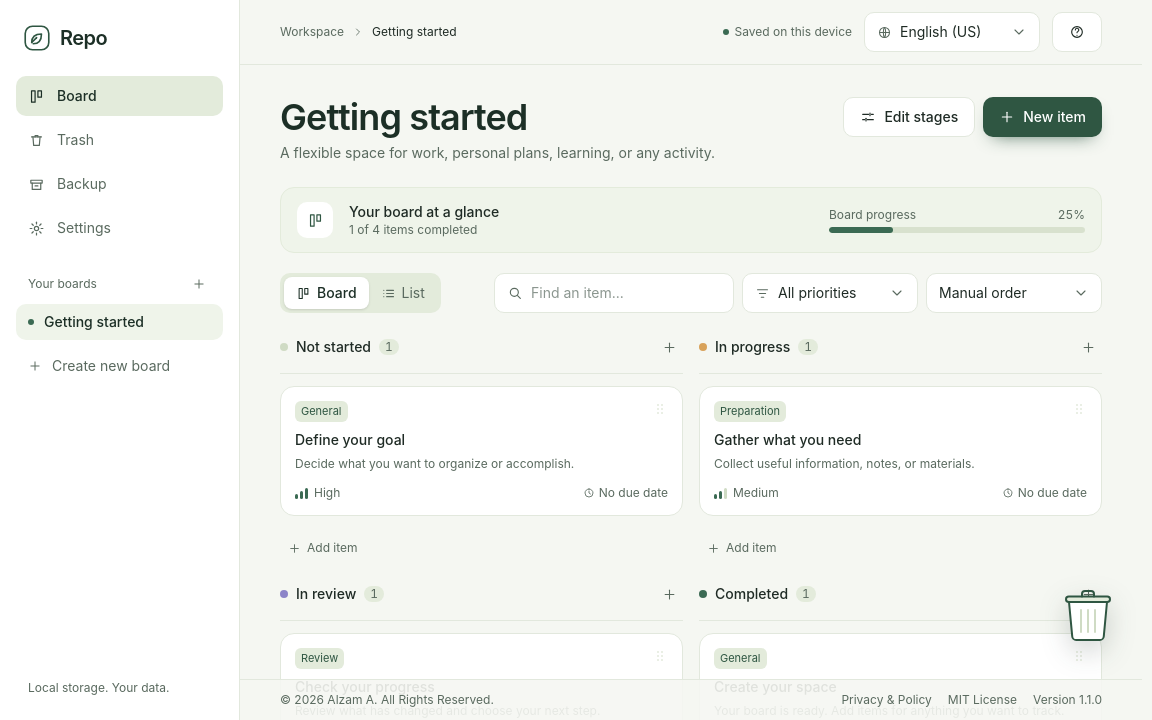
Test case: backup dialog › requires matching passphrases before starting an encrypted backup
The image size is (1152, 720).
Expected: the heading "Getting started" is shown, [280,95,527,139]
Click the button "Backup" at point(120, 184), box [16,164,223,204]
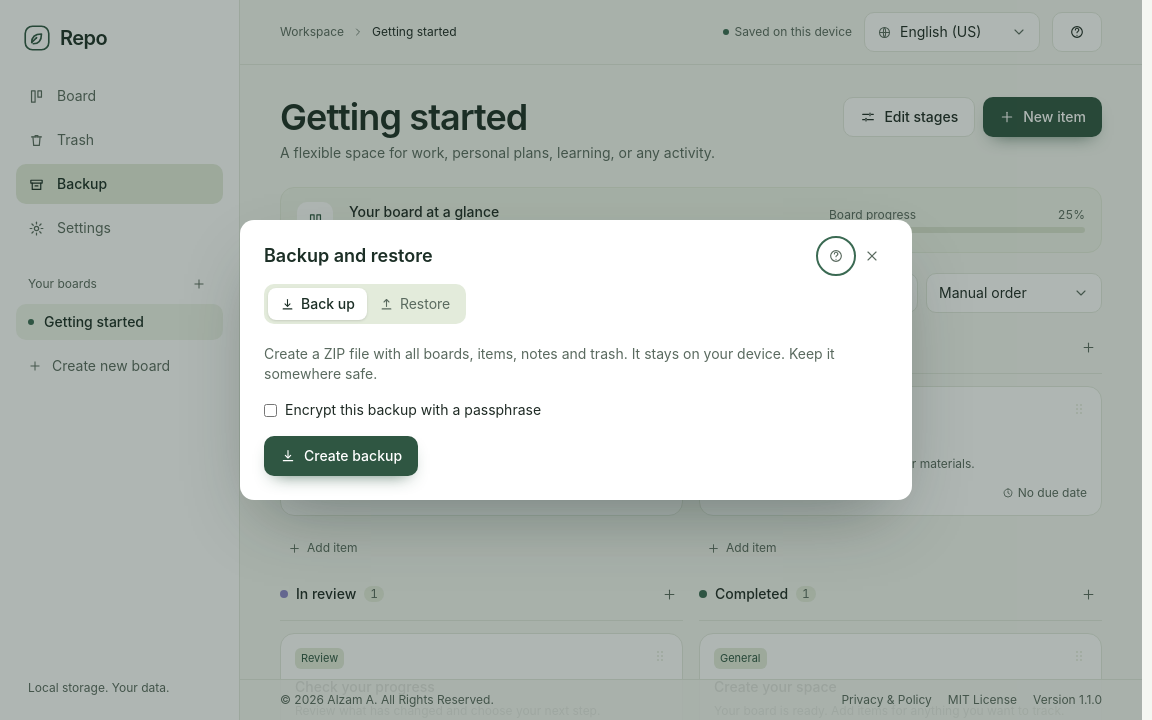
Click the checkbox labelled "Encrypt this backup with a passphrase" at point(270, 410), box [264,404,277,417]
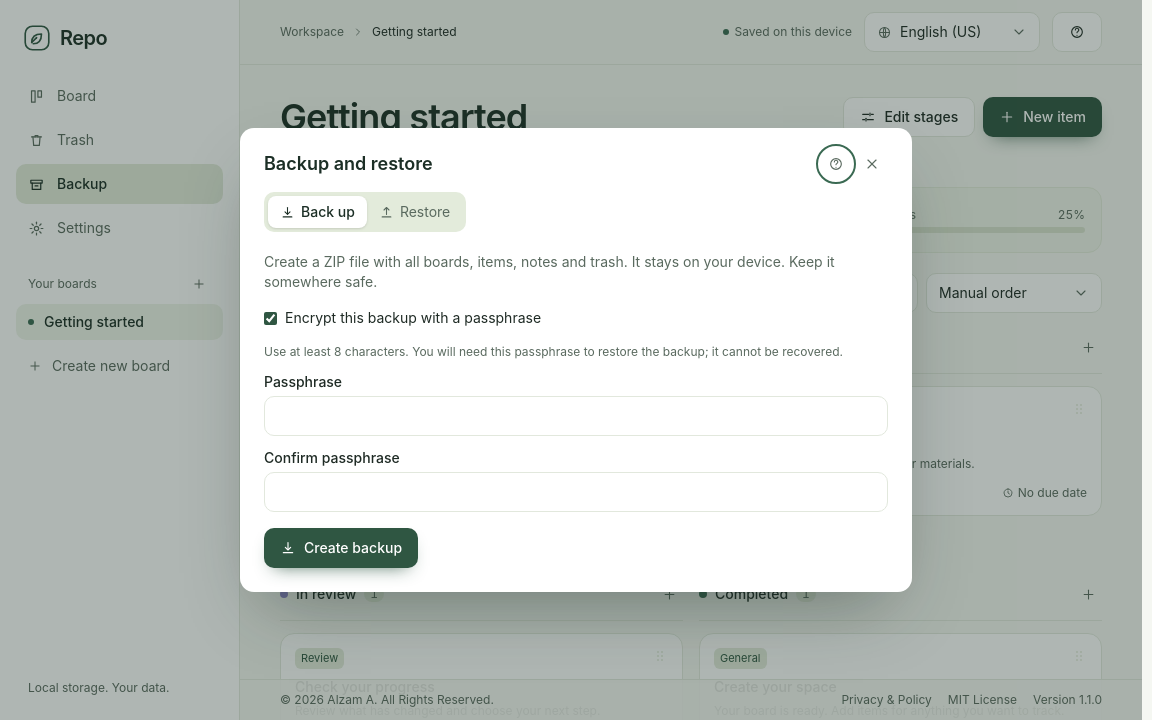
Type "private phrase" into the password field labelled "Passphrase" at point(576, 416), box [264,396,888,436]
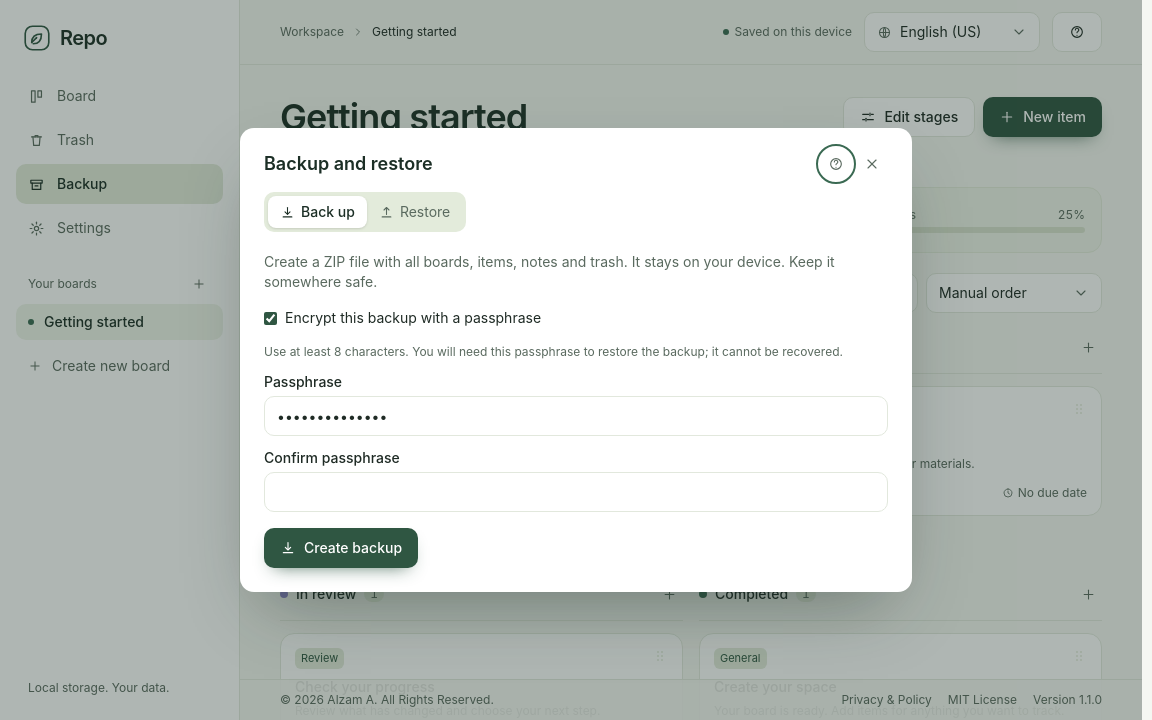
Type "different phrase" into the password field labelled "Confirm passphrase" at point(576, 492), box [264,472,888,512]
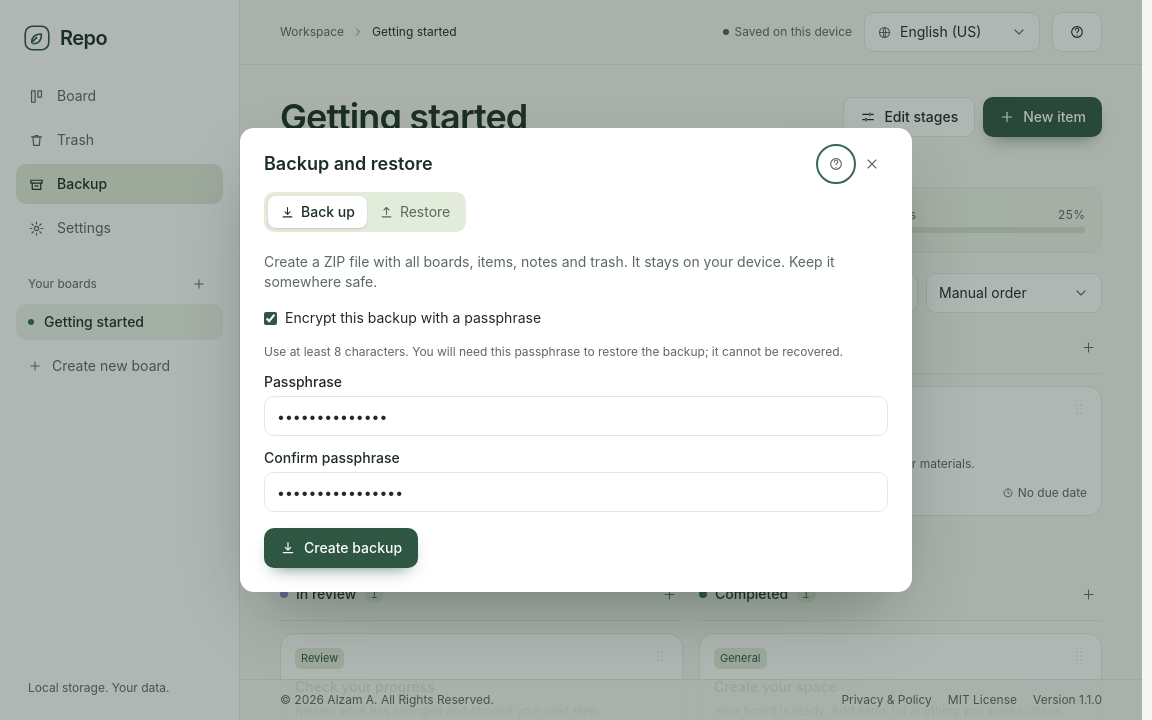
Click the button "Create backup" at point(341, 548), box [264,528,418,568]
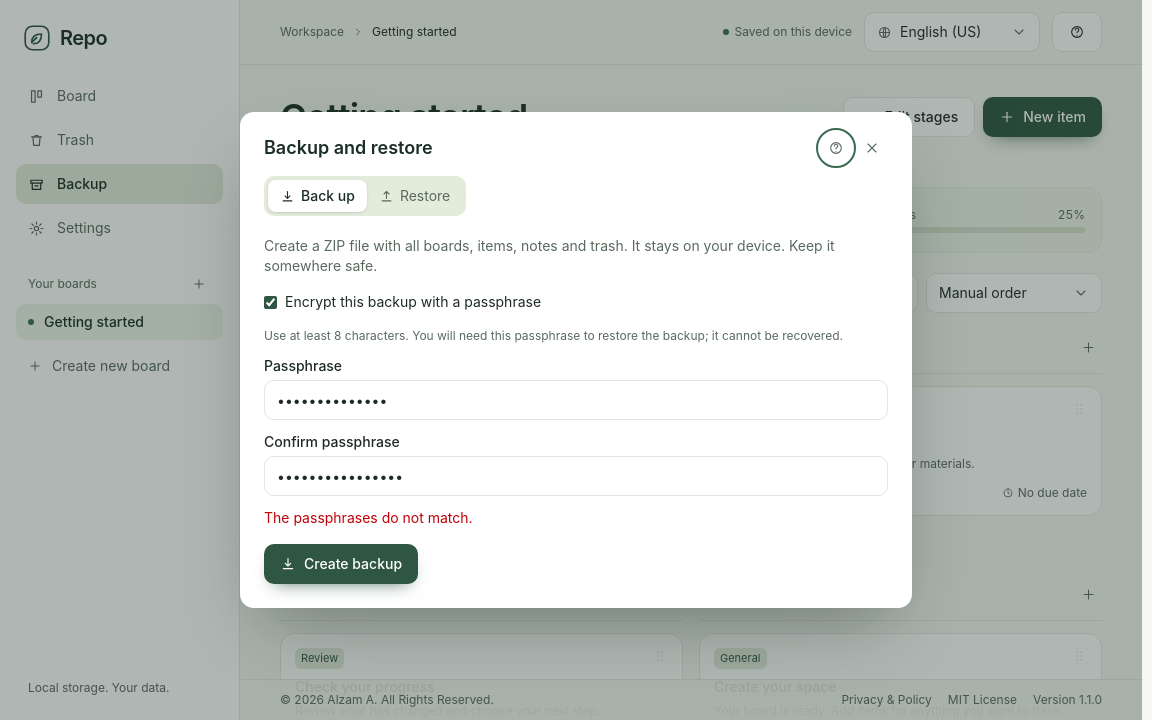
Result: the message reads "The passphrases do not match." at [264,509,473,526]
